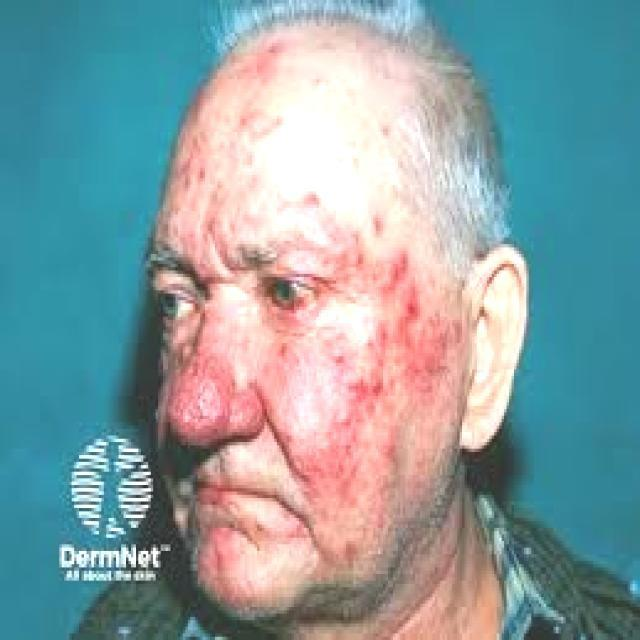Rosacea: (298, 253, 442, 517), (165, 46, 288, 266), (168, 358, 263, 441), (196, 526, 306, 578)
